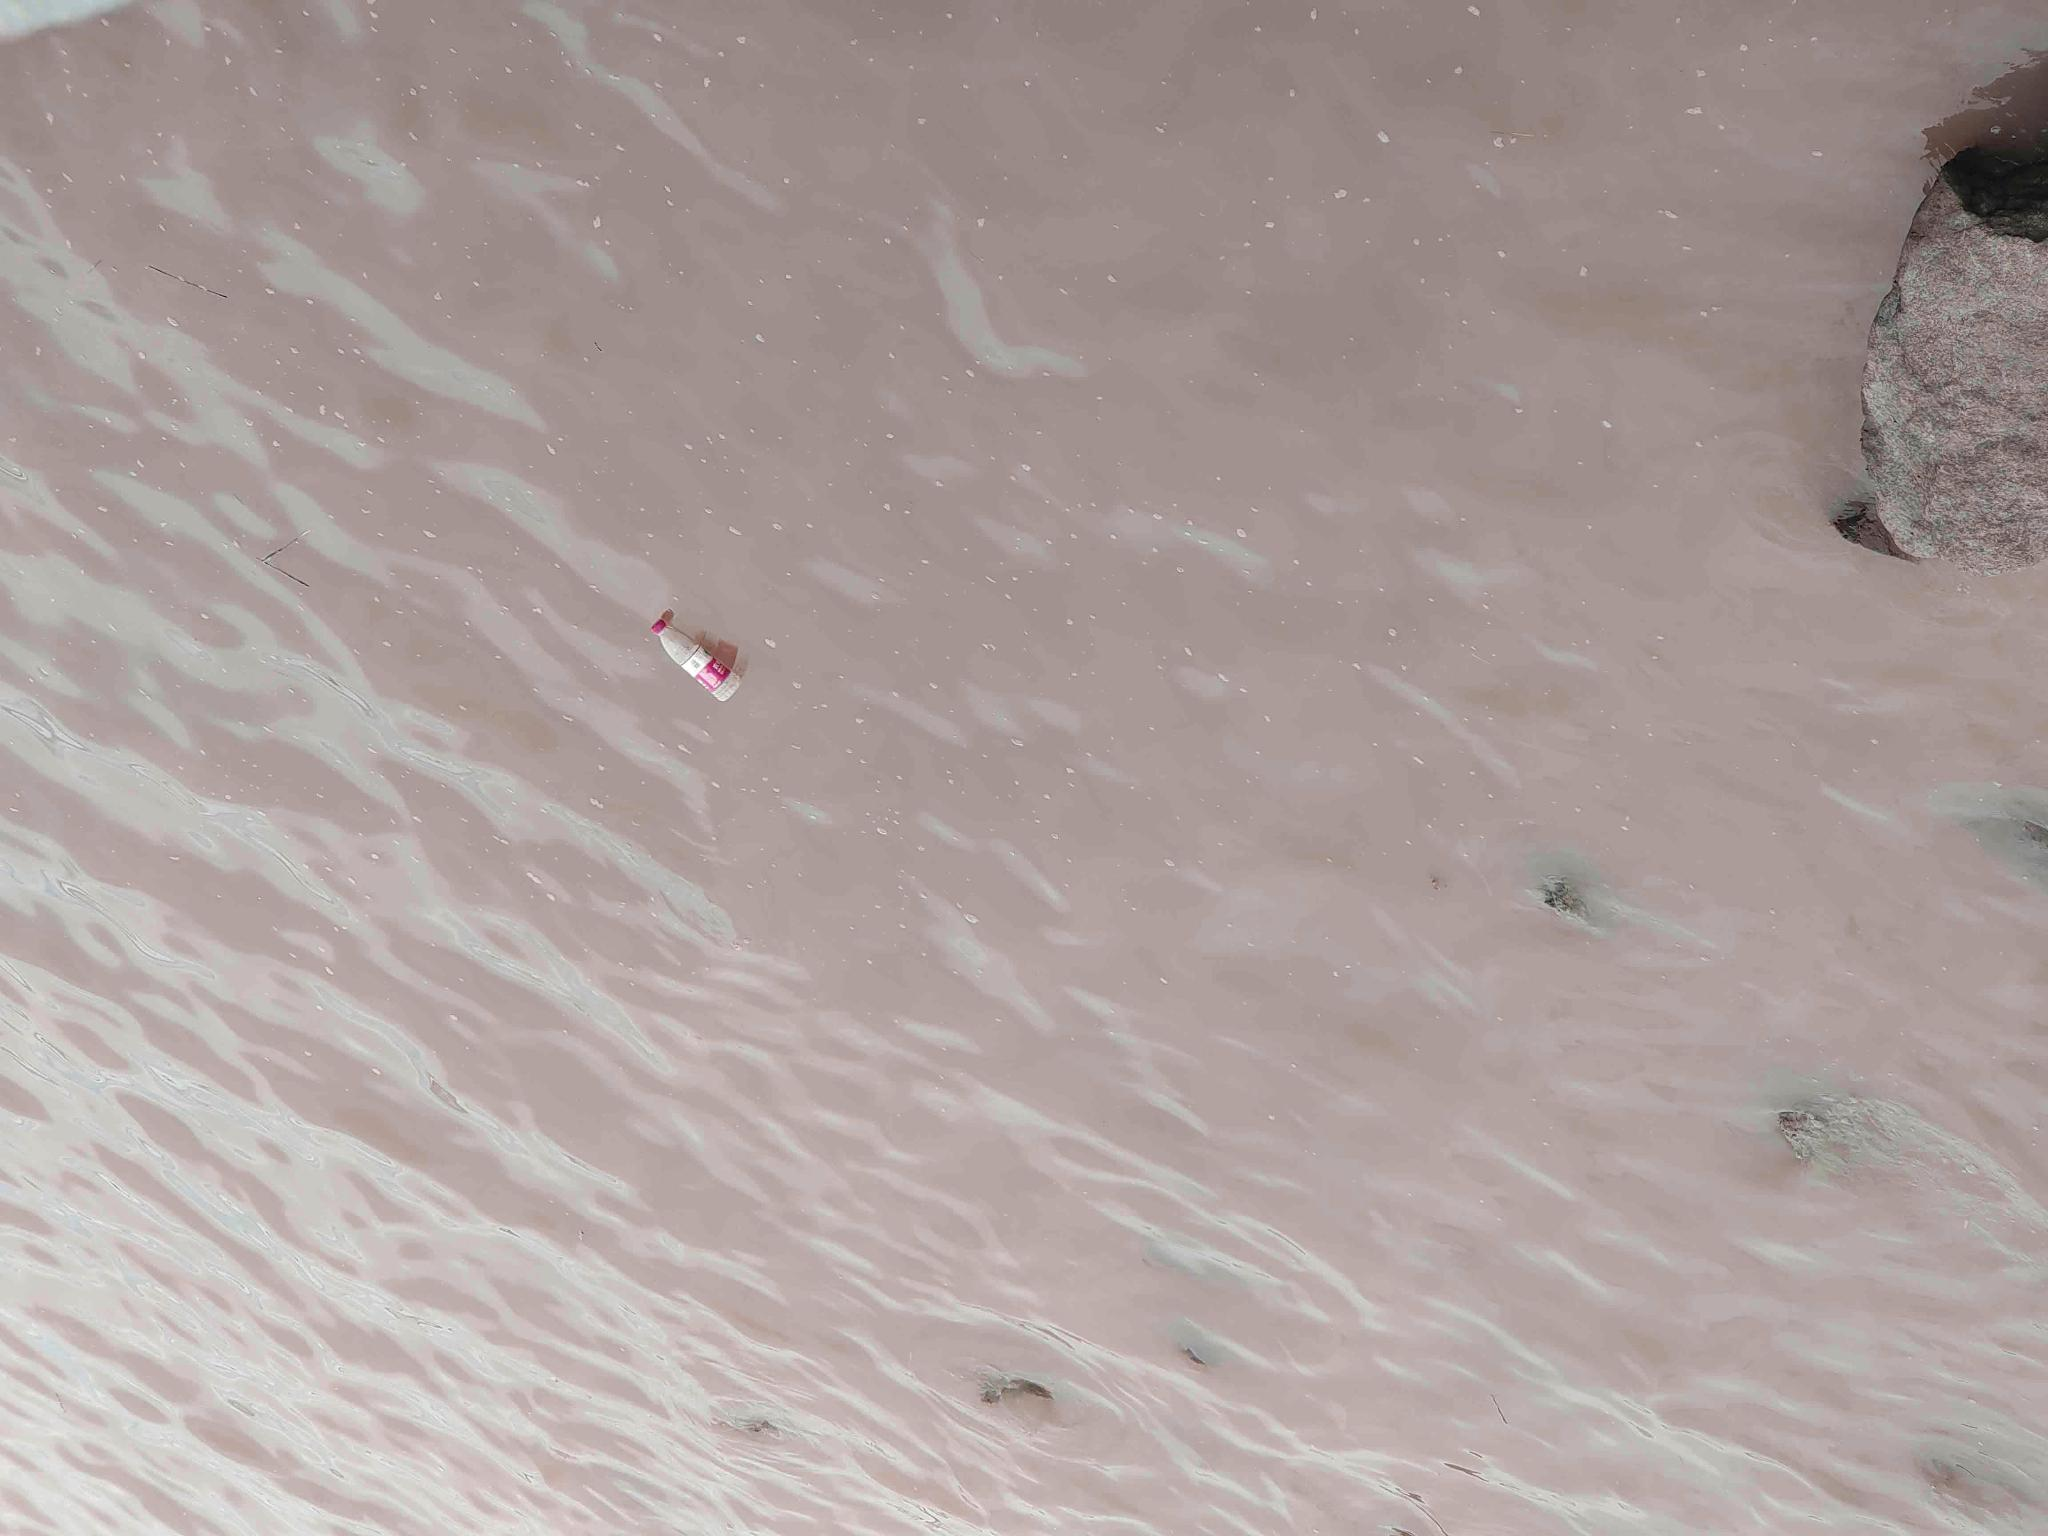Plastic: (650, 610, 739, 710)
